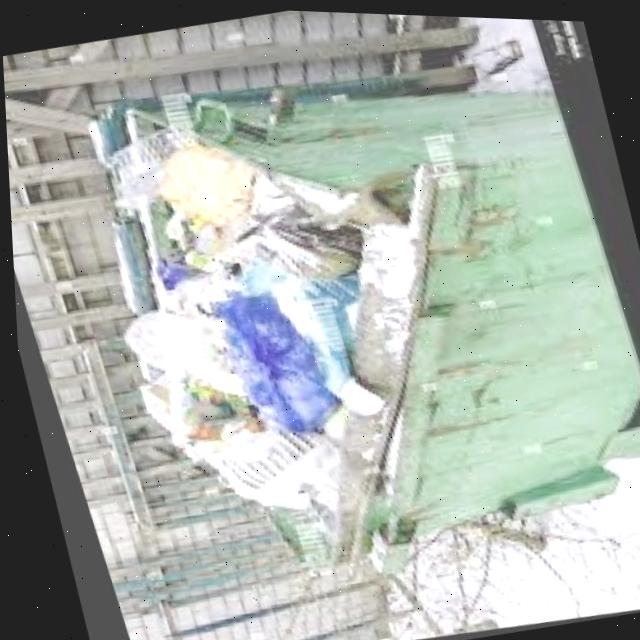Garbage: (90, 108, 372, 508)
Plastic_Bag: (209, 295, 326, 434)
